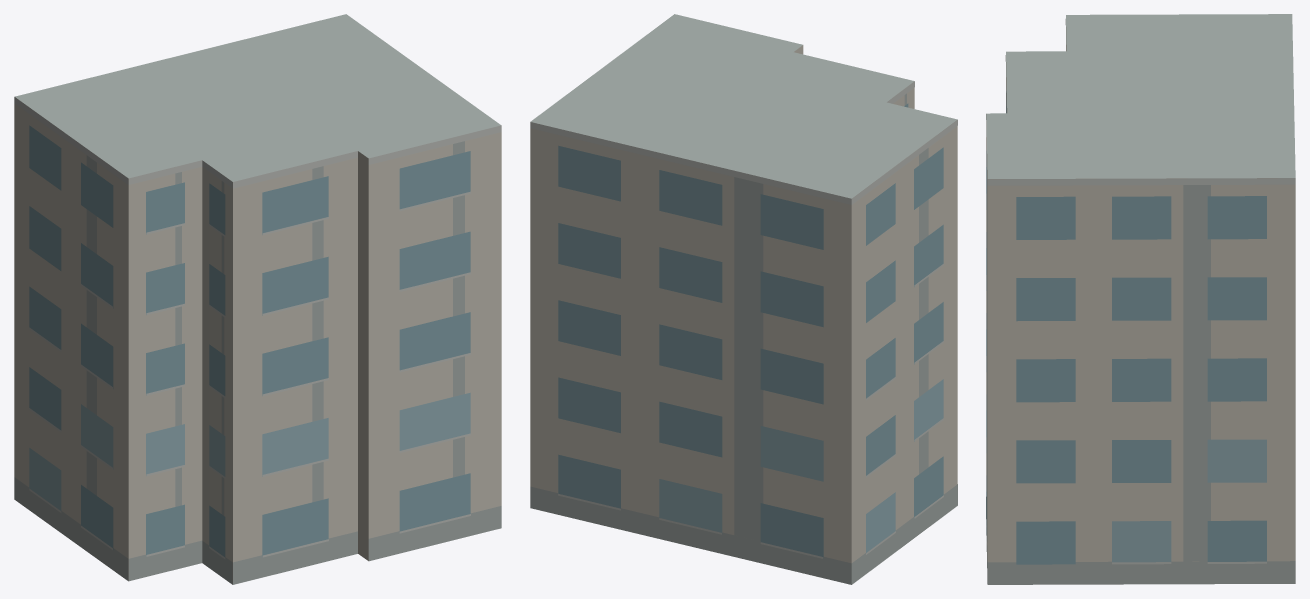
The model's file is survey-upis-32803262.glb.
3 views of the same model, side by side, from view 1: azimuth 30°, elevation 25°; view 2: azimuth 150°, elevation 25°; view 3: azimuth 270°, elevation 25° (orthographic). The views are drawn at different scales.
Parts seen in each view (by area): view 1: survey-upis-32803262.tmp; view 2: survey-upis-32803262.tmp; view 3: survey-upis-32803262.tmp.
Part boxes in pixels (box(x1,y1,x2,y2)): survey-upis-32803262.tmp: box(14, 14, 501, 584); survey-upis-32803262.tmp: box(530, 14, 957, 584); survey-upis-32803262.tmp: box(986, 14, 1295, 584).
Bounding box in the file's own units: 12.92 × 14.8 × 10.24.
